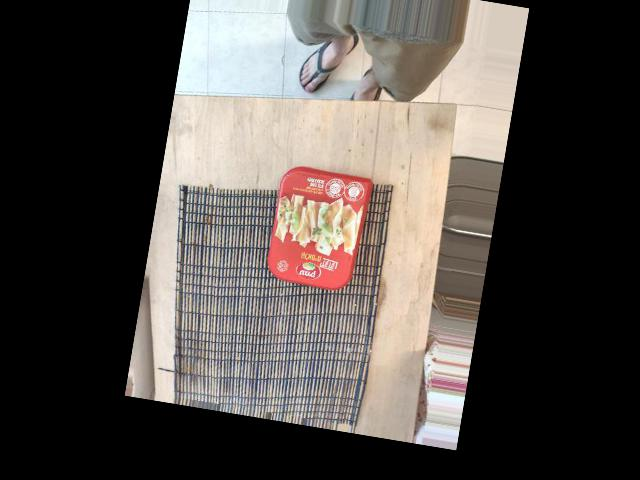cheese: (198, 193, 320, 309)
